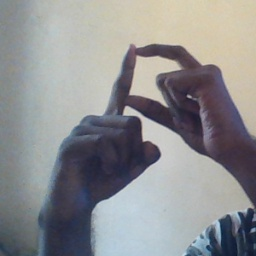D: (79, 32, 224, 160)
